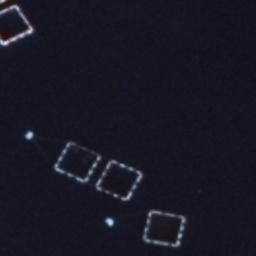square_solid: (51, 138, 106, 187), (91, 156, 145, 205), (139, 206, 190, 250), (1, 1, 36, 50)
